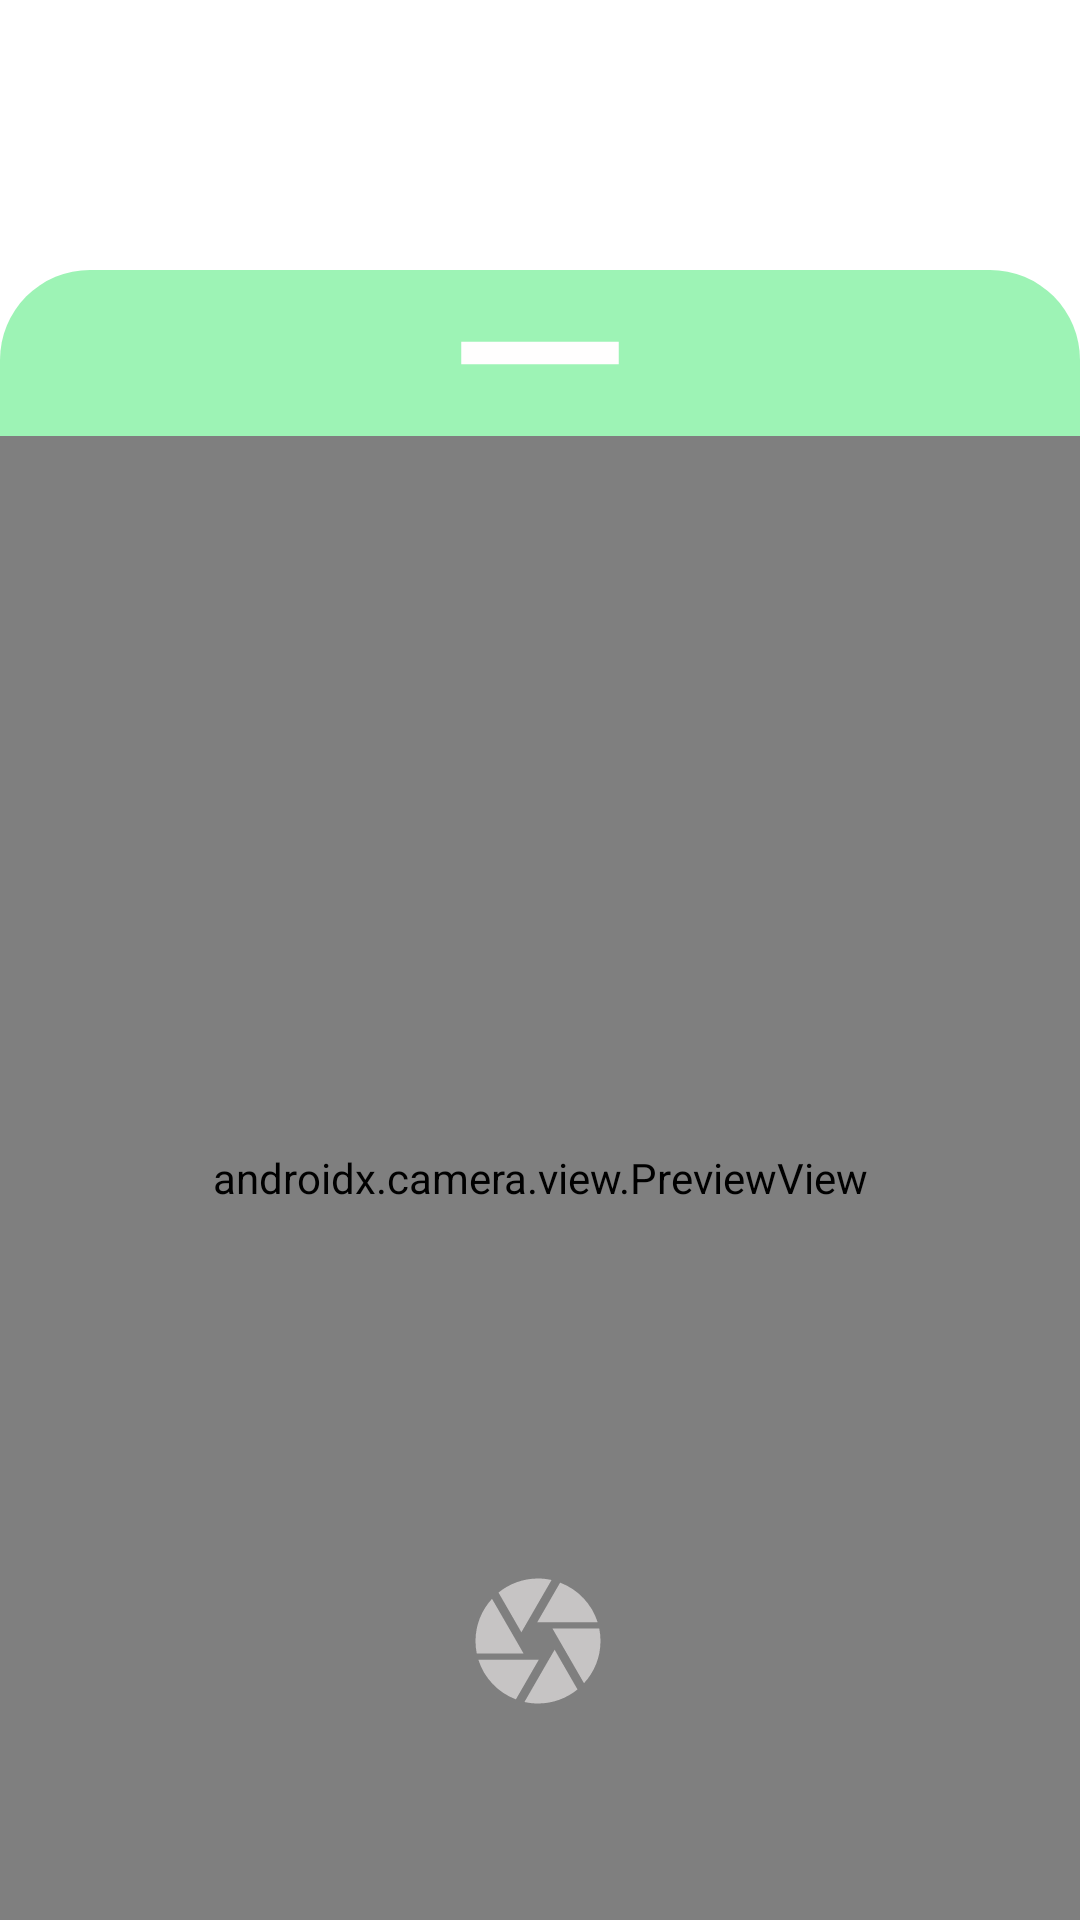

Icon bounding boxes for this 1080 × 1920 phone screenshot, format (x1, y1, x2, y2):
capture: (475, 1578, 601, 1704)
